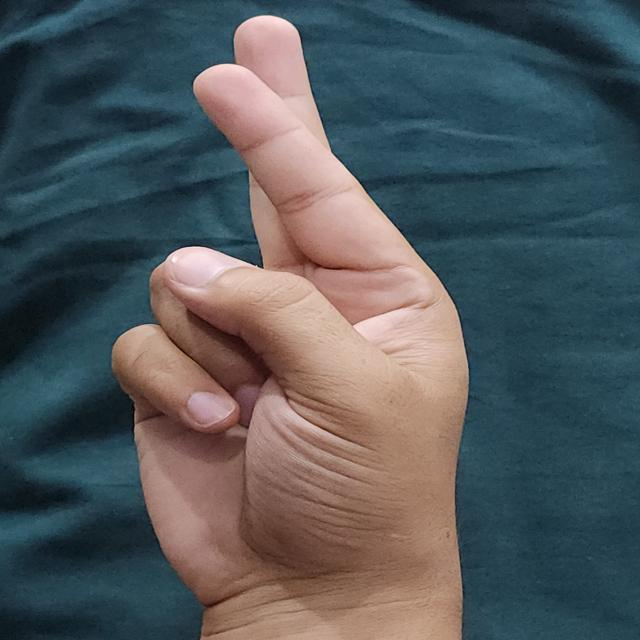ب: (109, 11, 501, 617)
